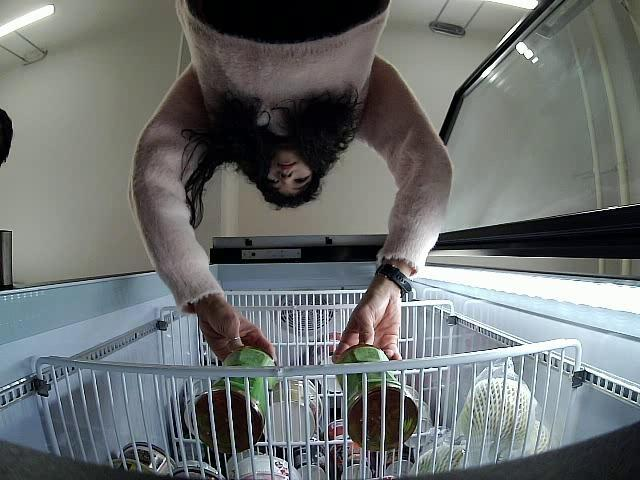19_17cha: (330, 336, 420, 450), (195, 345, 282, 450)
